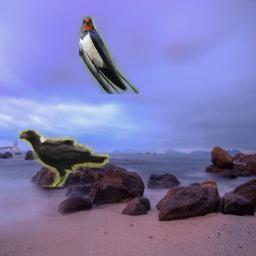Crow: (18, 129, 109, 187)
Swallow: (79, 15, 139, 94)
